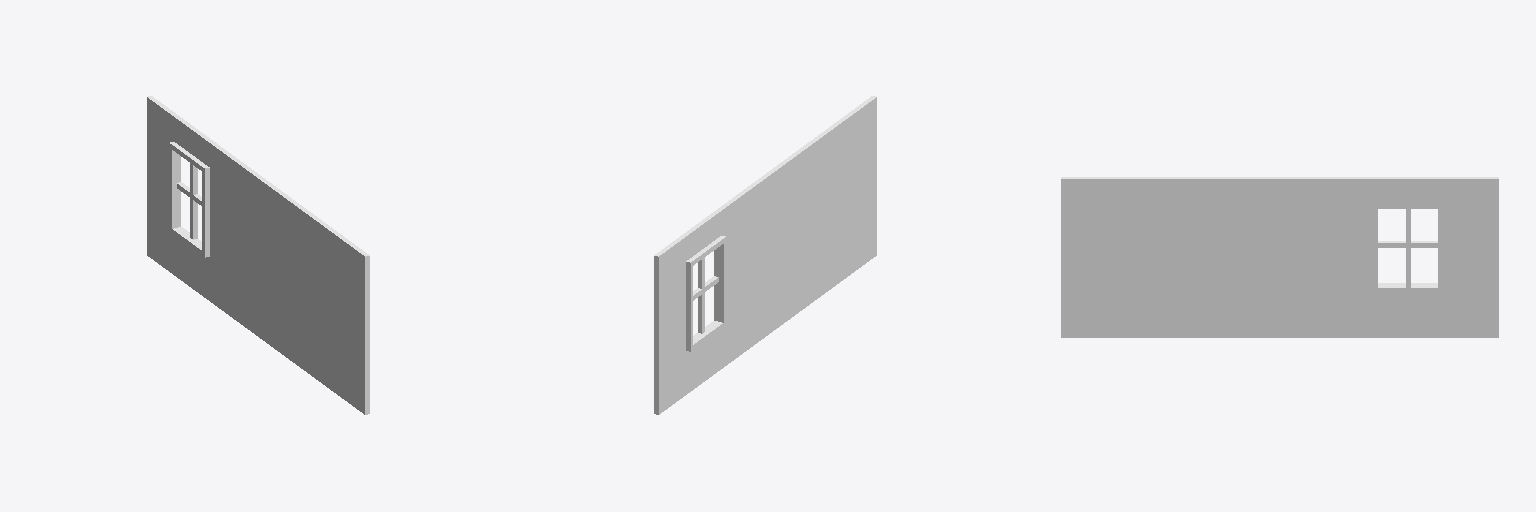
File: WallWithAWindow.obj
3 renders of one model, left to right at view 1: azimuth 30°, elevation 25°; view 2: azimuth 150°, elevation 25°; view 3: azimuth 270°, elevation 25°, orthographic.
Size of the model in its own units: 2 by 32 by 80.